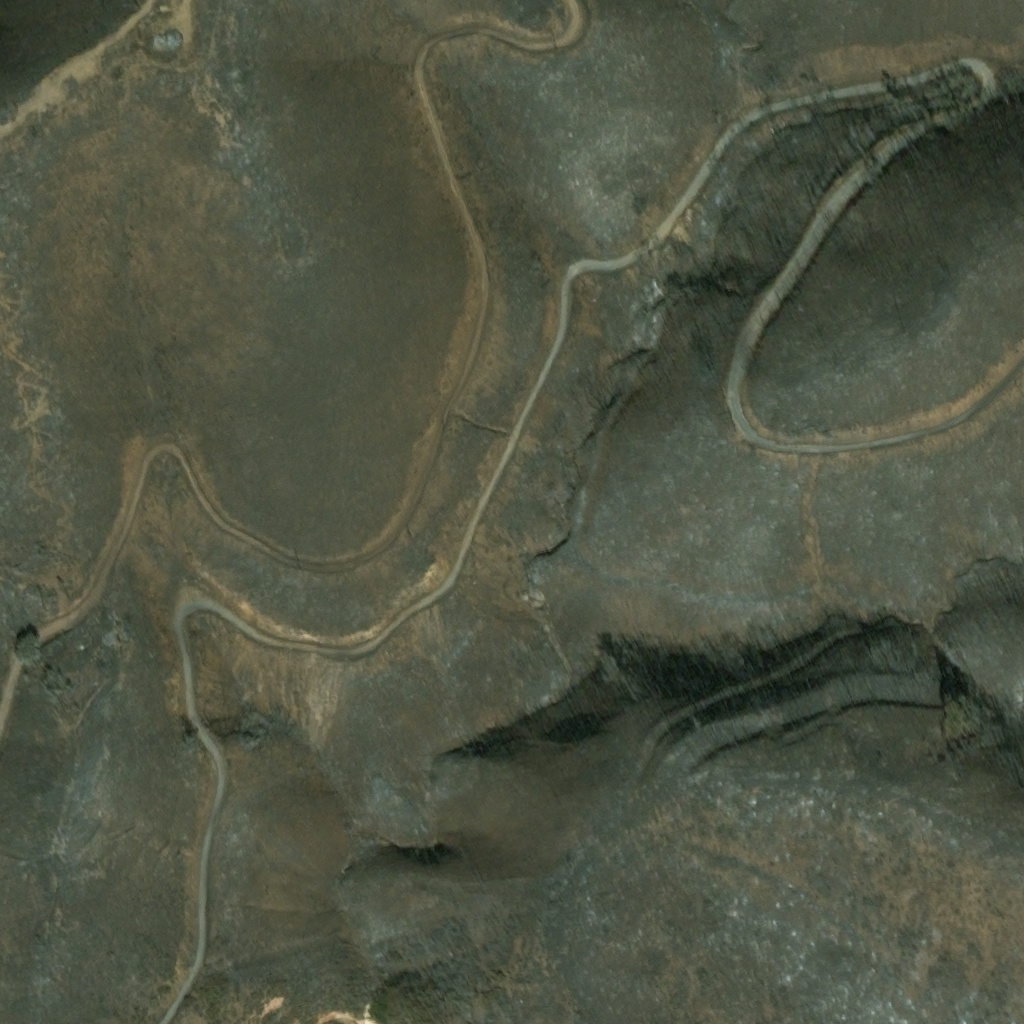3 destroyed: (154, 28, 179, 37)
